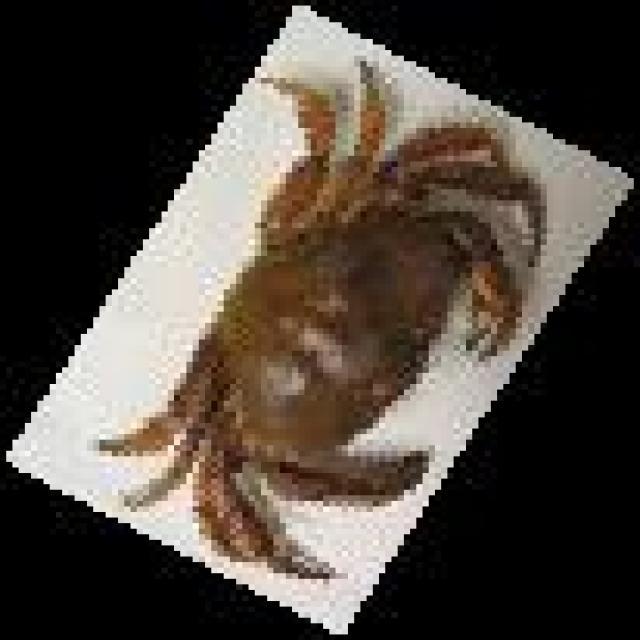Native Rock crab: (99, 61, 541, 573)
